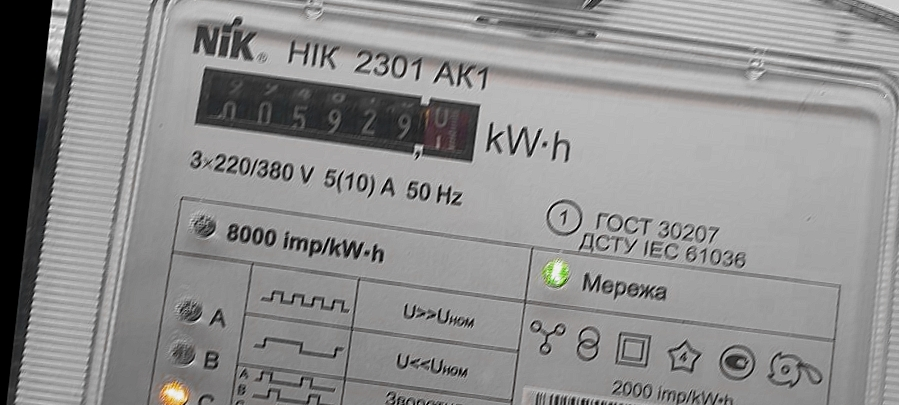0: (254, 97, 276, 127), (218, 94, 241, 120), (431, 104, 453, 129)
2: (358, 103, 380, 138)
5: (289, 101, 310, 130)
9: (322, 103, 346, 136), (394, 109, 416, 142), (226, 75, 246, 95)
screen: (187, 59, 490, 171)
